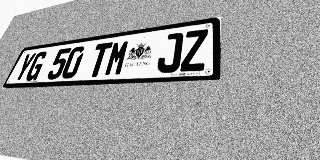0: (60, 46, 86, 79)
5: (46, 48, 72, 80)
G: (24, 51, 49, 81)
J: (156, 32, 184, 73)
M: (103, 39, 131, 76)
T: (86, 42, 113, 77)
Y: (12, 52, 37, 82)
Z: (180, 29, 208, 72)
